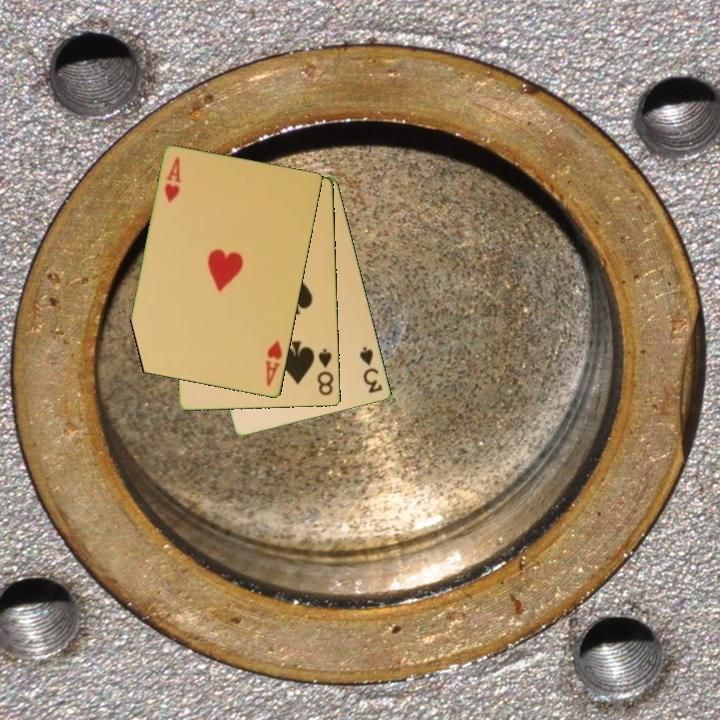3s: (356, 343, 386, 396)
8s: (314, 345, 336, 399)
Ah: (161, 153, 184, 206), (262, 337, 285, 389)
